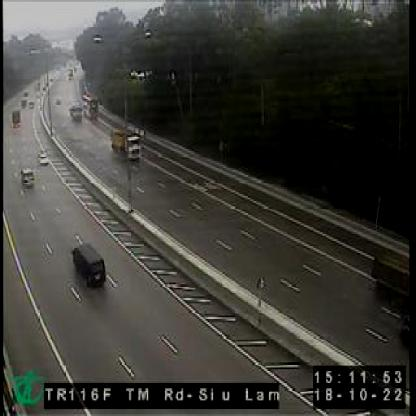Bus: (82, 94, 98, 123)
Car: (71, 242, 106, 290), (20, 167, 36, 190), (36, 150, 49, 164)
Truck: (110, 124, 141, 164), (68, 102, 84, 126), (10, 108, 23, 130)
